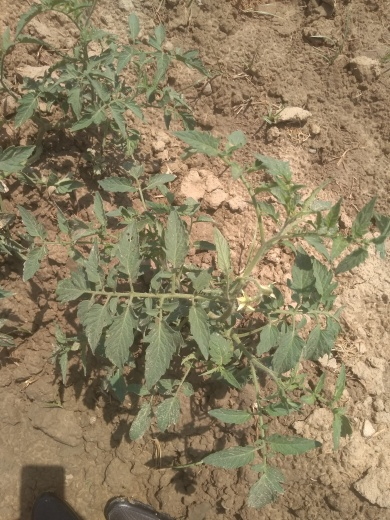tomato flower: (223, 280, 270, 319)
tomato plant: (66, 239, 334, 470), (1, 8, 167, 229)
